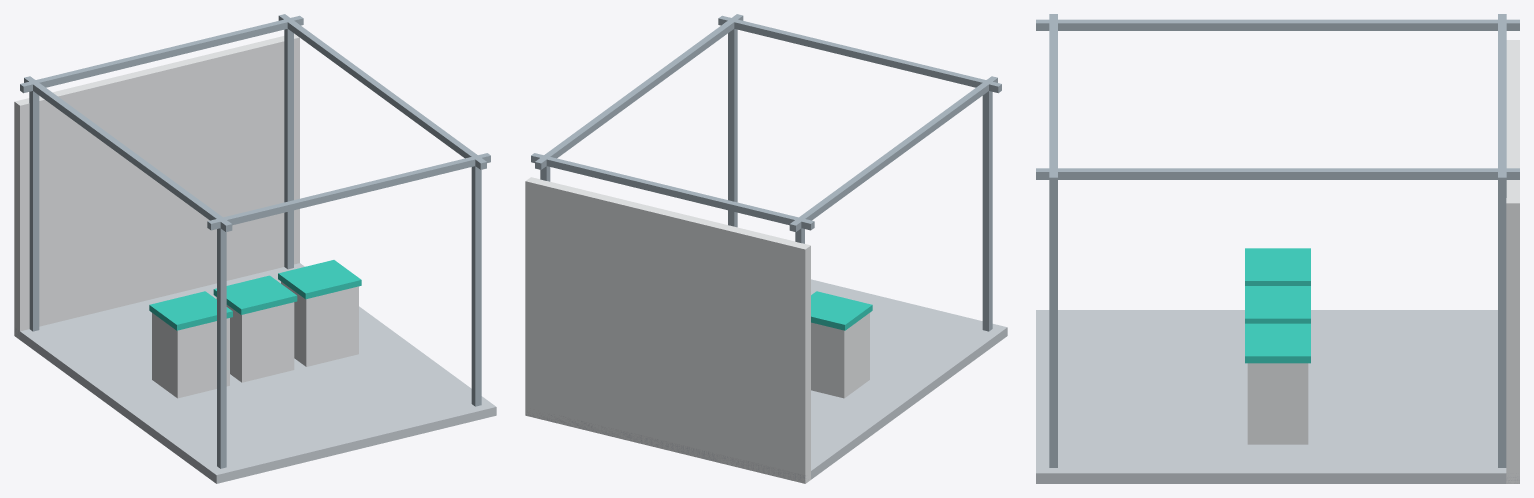
3 views of the same model, side by side, from view 1: azimuth 30°, elevation 25°; view 2: azimuth 150°, elevation 25°; view 3: azimuth 270°, elevation 25° (orthographic). The views are drawn at different scales.
Parts seen in each view (by area): view 1: Exhibition Booth Concept; view 2: Exhibition Booth Concept; view 3: Exhibition Booth Concept.
Part boxes in pixels (x1,y1,x2,y2): Exhibition Booth Concept: (14,14,496,483); Exhibition Booth Concept: (525,14,1007,483); Exhibition Booth Concept: (1036,14,1519,483).
Size of the model in its own units: 4 by 3.49 by 5.
